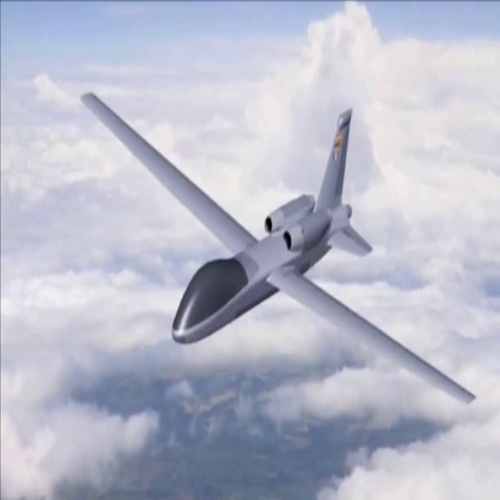uav949: (79, 91, 475, 407)
